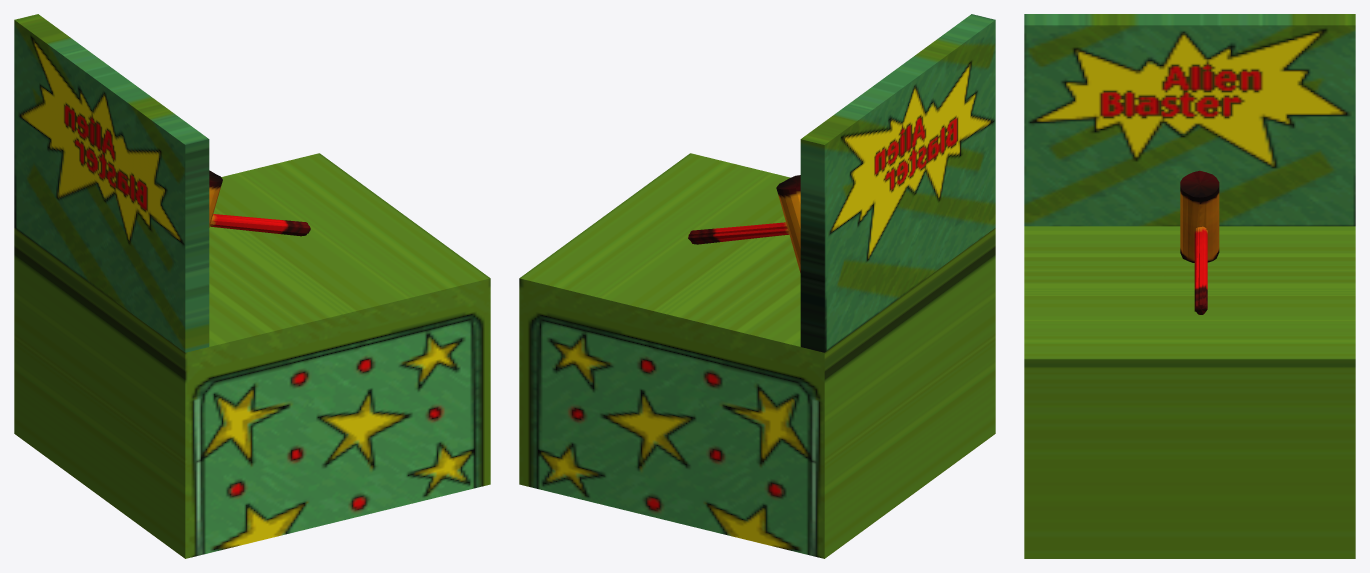
Rendered from HitMach.glb.
3 renders of one model, left to right at view 1: azimuth 30°, elevation 25°; view 2: azimuth 150°, elevation 25°; view 3: azimuth 270°, elevation 25°, orthographic. The views are drawn at different scales.
Parts seen in each view (by area): view 1: HitMach; view 2: HitMach; view 3: HitMach.
Boxes of the visible parts, left/top/right/bottom form: HitMach: left=14, top=14, right=490, bottom=558; HitMach: left=519, top=14, right=995, bottom=558; HitMach: left=1024, top=14, right=1355, bottom=558.
Size of the model in its own units: 157 by 204 by 152.
Materials: 1 (1 with a texture image).
